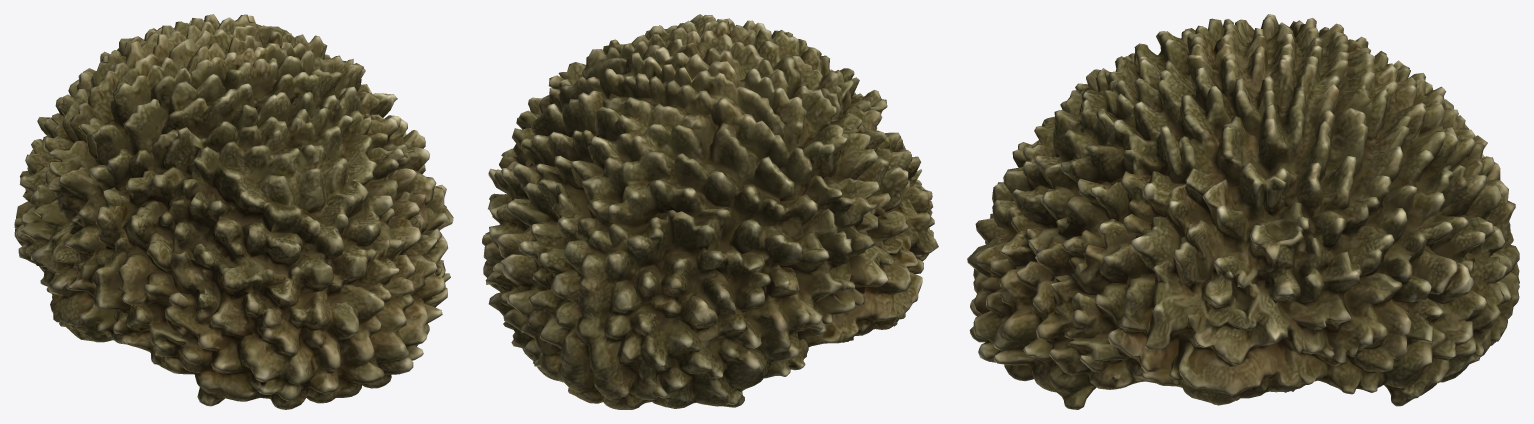
File: coral_brain.glb
3 renders of one model, left to right at view 1: azimuth 30°, elevation 25°; view 2: azimuth 150°, elevation 25°; view 3: azimuth 270°, elevation 25°, orthographic. The views are drawn at different scales.
Visible parts, largest first — view 1: tripo_node_1256286a-4015-4b22-be57-8fbc67d195bb; view 2: tripo_node_1256286a-4015-4b22-be57-8fbc67d195bb; view 3: tripo_node_1256286a-4015-4b22-be57-8fbc67d195bb.
Part boxes in pixels (x1=…): tripo_node_1256286a-4015-4b22-be57-8fbc67d195bb: x1=14, y1=14, x2=453, y2=409; tripo_node_1256286a-4015-4b22-be57-8fbc67d195bb: x1=482, y1=14, x2=938, y2=409; tripo_node_1256286a-4015-4b22-be57-8fbc67d195bb: x1=967, y1=14, x2=1519, y2=409.
Bounding box in the file's own units: 0.8772 × 0.6323 × 1.
Materials: 1 (1 with a texture image).
